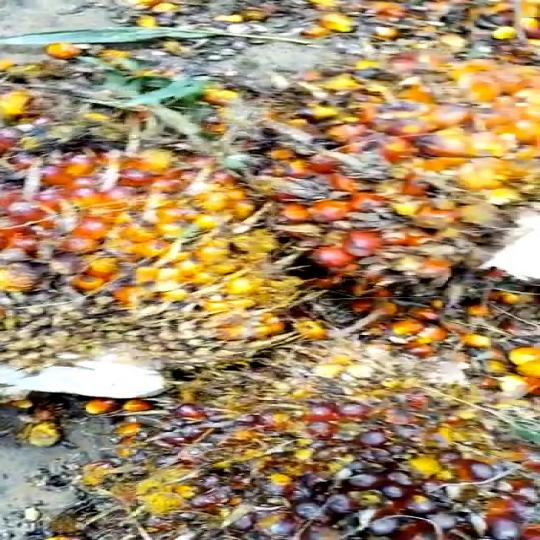masak: (0, 134, 325, 413), (239, 54, 540, 343), (27, 375, 540, 539)
